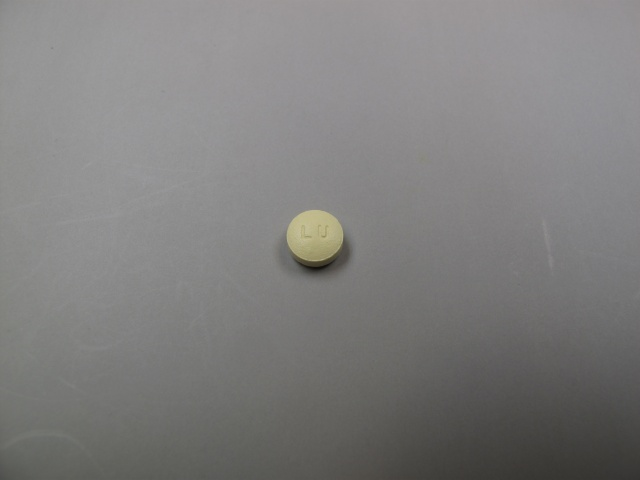L: (298, 224, 313, 242)
U: (316, 222, 331, 239)
